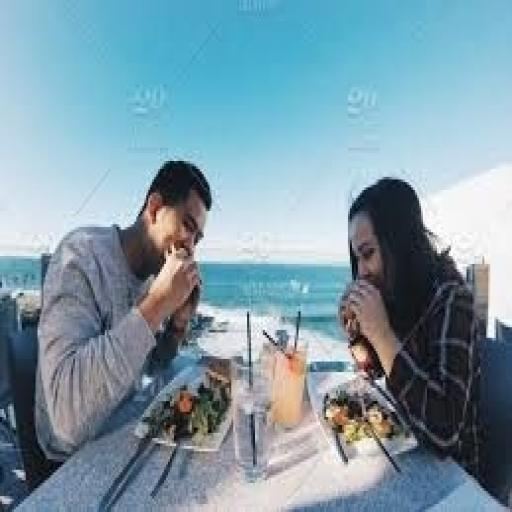eating: (32, 156, 216, 464), (336, 172, 486, 470)
